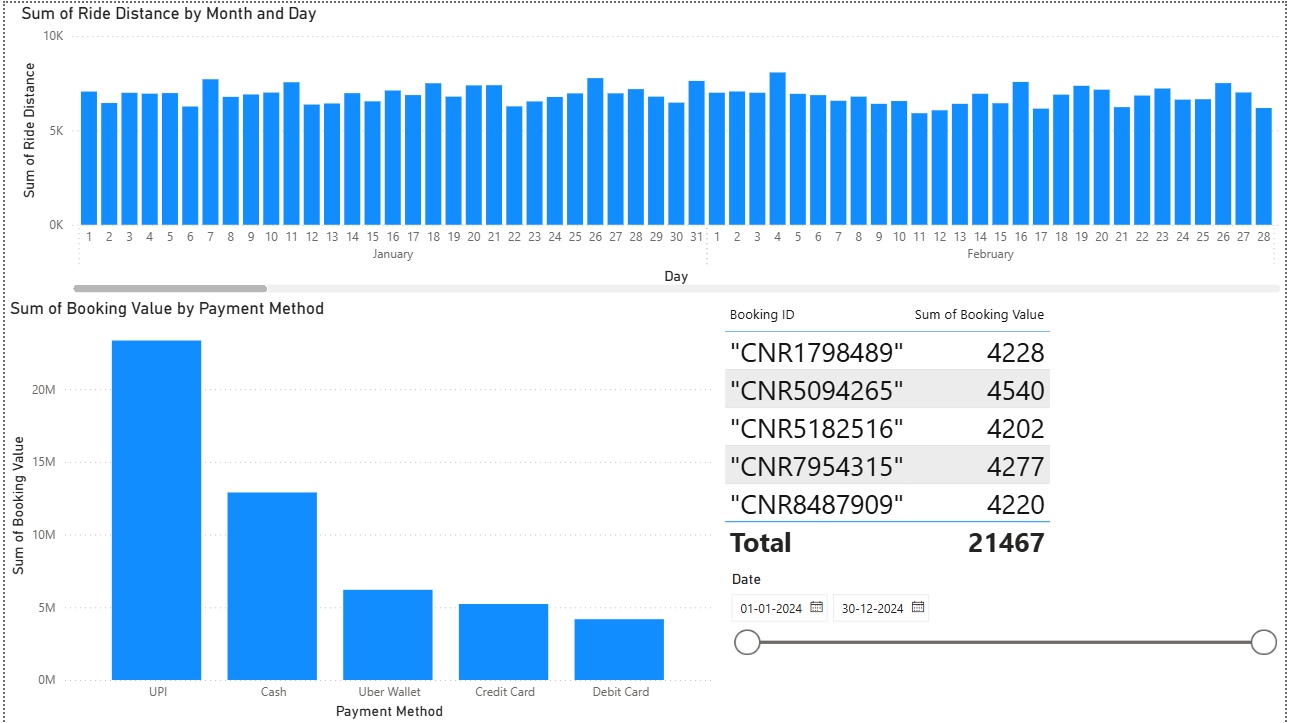

This screenshot's page, from the dashboard's own definition file:
{"tool":"powerbi","page":{"name":"Revenue","canvas":[1280,720],"ordinal":3},"visuals":[{"type":"columnChart","fields":{"Category":["rideBookings.Date.Variation.Date Hierarchy.Month","rideBookings.Date.Variation.Date Hierarchy.Day"],"Y":["Sum(rideBookings.Ride Distance)"]},"box":[10.8,0,1269,294.8],"z":0},{"type":"columnChart","fields":{"Category":["rideBookings.Payment Method"],"Y":["Sum(rideBookings.Booking Value)"]},"box":[0,294.8,713.6,426],"z":1000},{"type":"slicer","fields":{"Values":["rideBookings.Date"]},"box":[713.6,562.6,566.2,158.2],"z":2000},{"type":"tableEx","fields":{"Values":["rideBookings.Booking ID","Sum(rideBookings.Booking Value)"]},"box":[713.6,294.8,566.2,267.8],"z":3000}]}

Visuals, with their boxes in screenshot pixels (x1, y1, x2, y2), scaled from the page's 1280x720 canvas onto the 1289x723 screenshot:
columnChart - rideBookings.Date.Variation.Date Hierarchy.Month x rideBookings.Date.Variation.Date Hierarchy.Day: bbox=[11, 0, 1288, 296]
columnChart - rideBookings.Payment Method x Sum(rideBookings.Booking Value): bbox=[0, 296, 719, 722]
slicer - rideBookings.Date: bbox=[719, 565, 1288, 722]
tableEx - rideBookings.Booking ID x Sum(rideBookings.Booking Value): bbox=[719, 296, 1288, 565]
